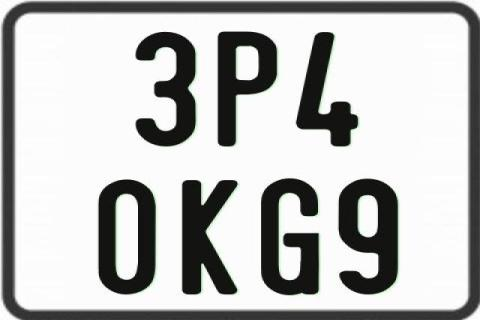0: (134, 29, 198, 149), (296, 30, 361, 148), (98, 179, 162, 297), (338, 178, 400, 296)
G: (260, 177, 320, 295)
K: (179, 180, 235, 298)
P: (218, 32, 283, 151)
